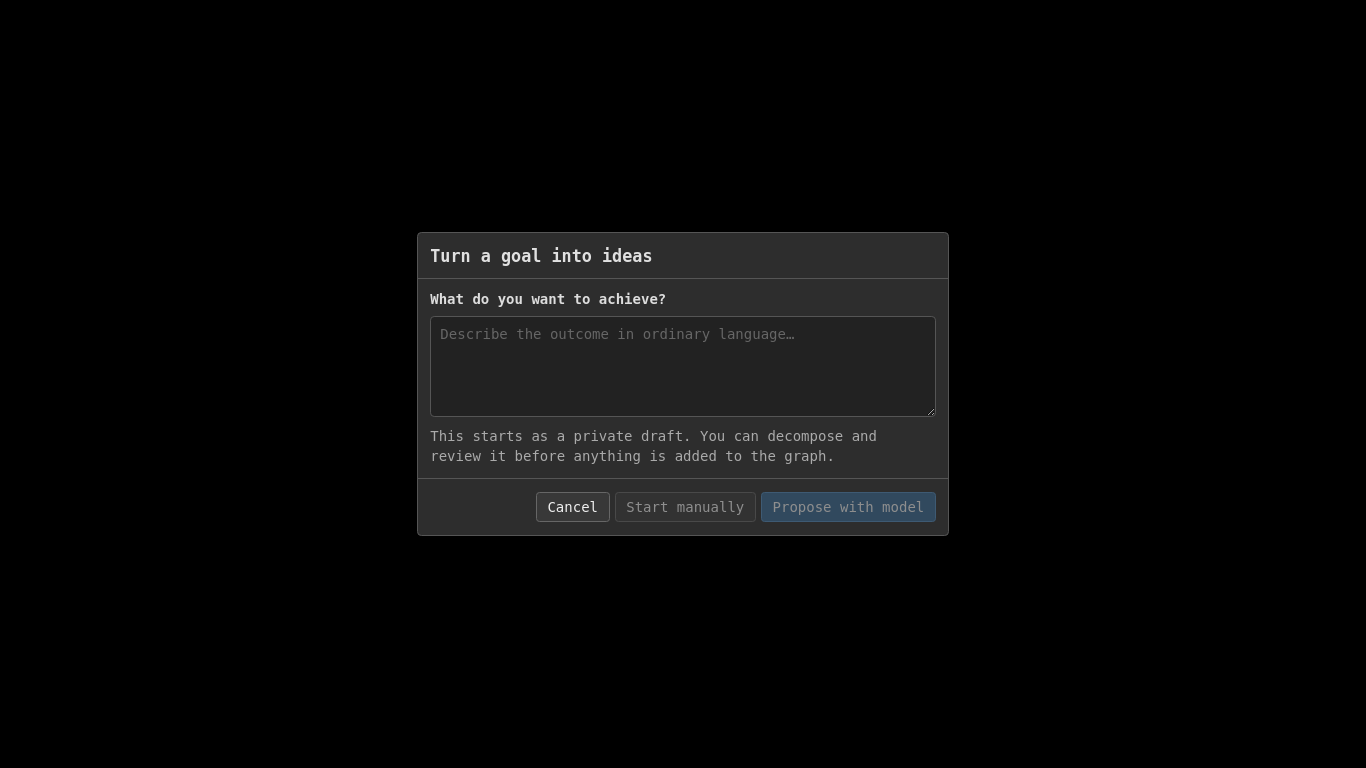
Scenario: IdeaProposalEntry › returns from the editor to text entry without closing the whole flow
Type "A goal" into the text box labelled "What do you want to achieve?" at (683, 366), box x1=430 y1=316 x2=936 y2=416
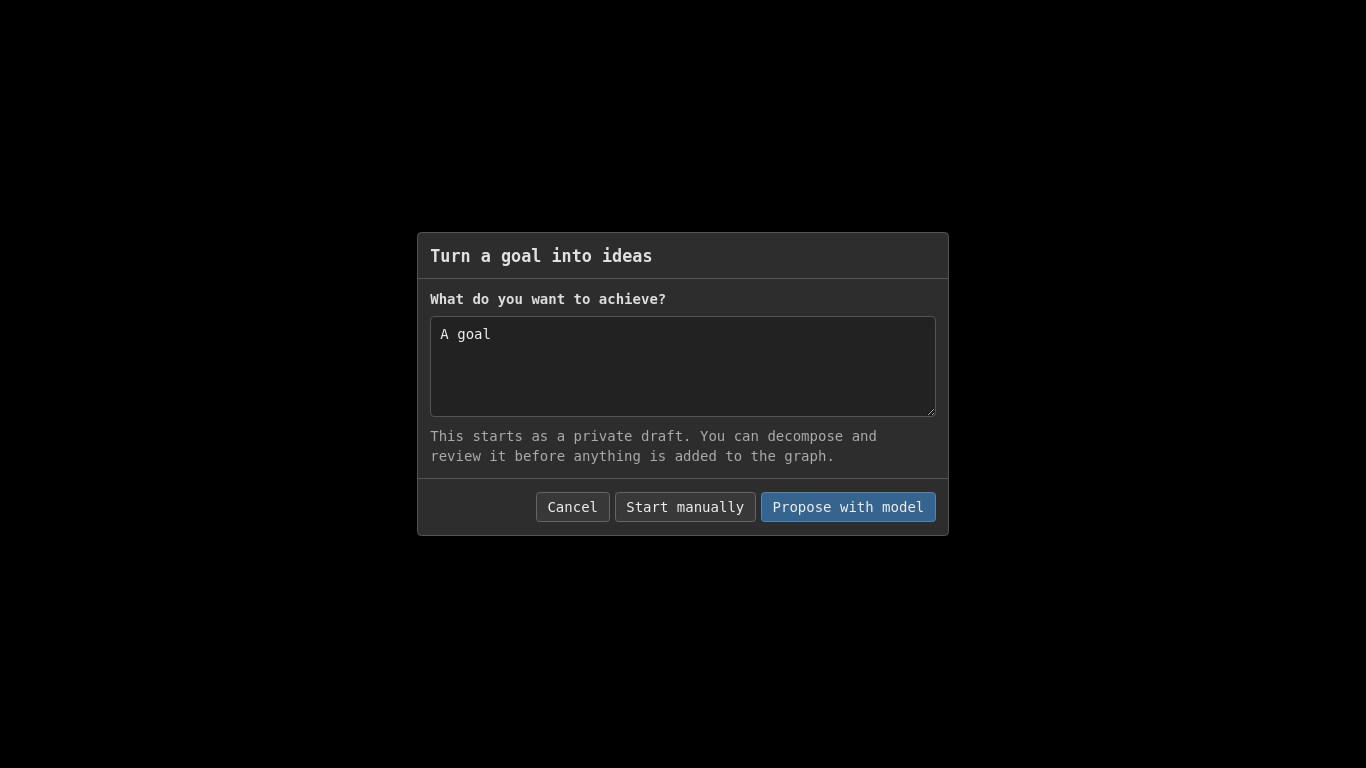
Click the button "Start manually" at (685, 507), box x1=615 y1=492 x2=756 y2=522
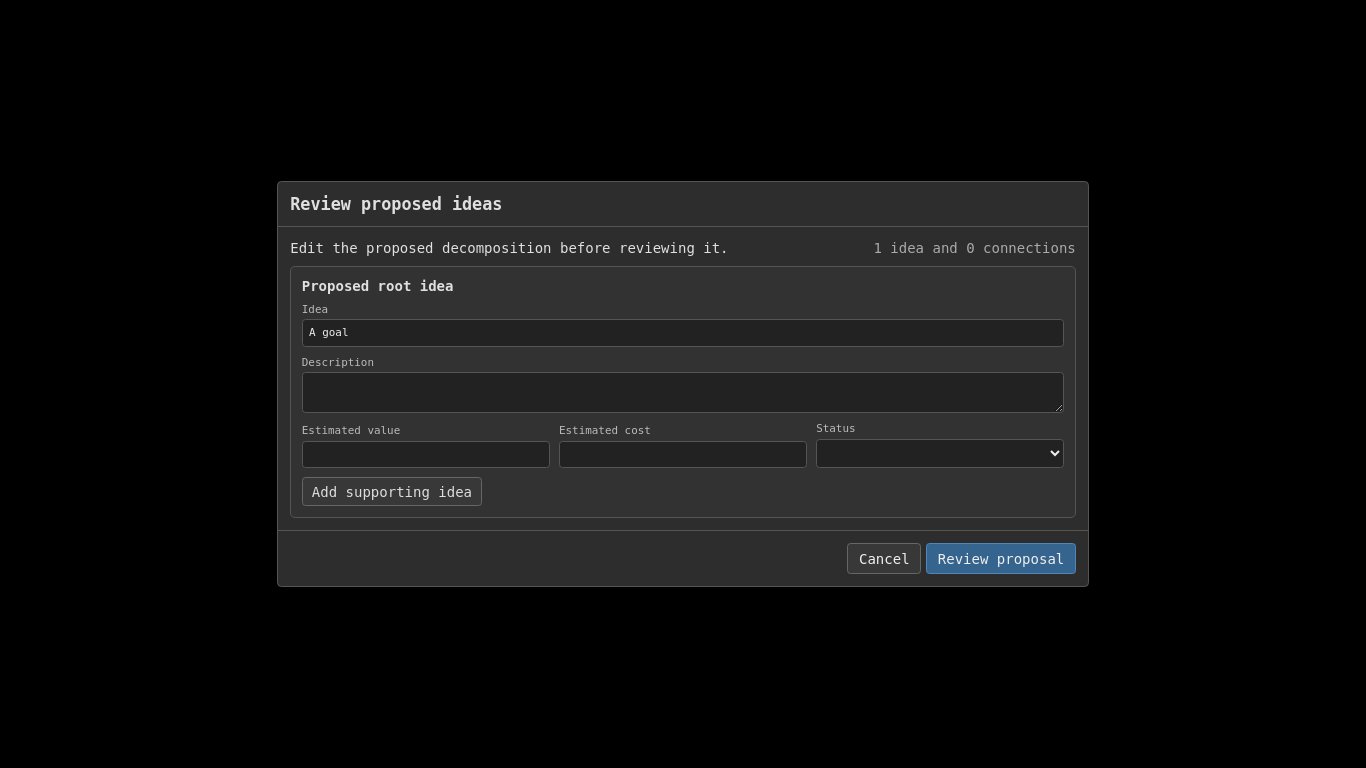
Click the button "Cancel" at (884, 559), box x1=848 y1=543 x2=921 y2=574
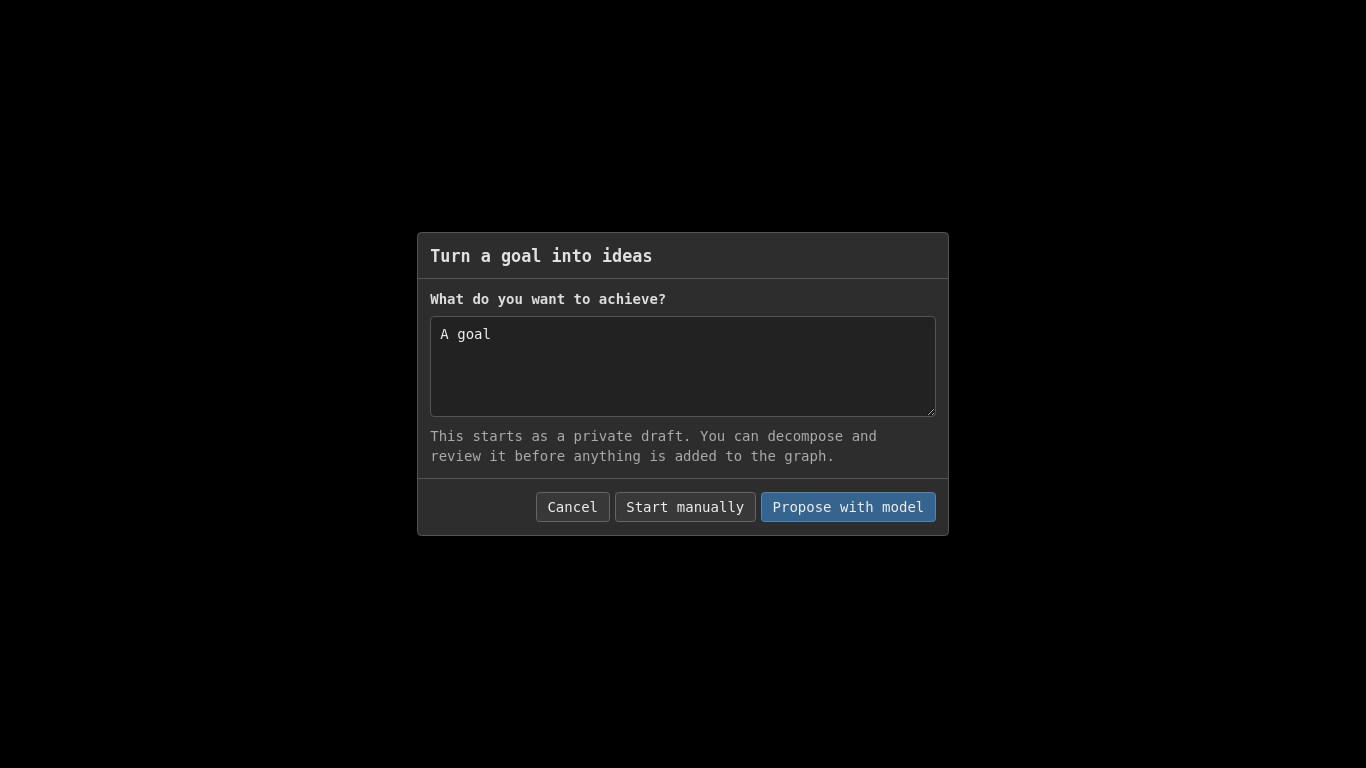
Check: the text "What do you want to achieve?" is shown, box x1=430 y1=291 x2=666 y2=307
